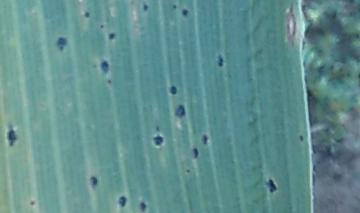tarspot: (265, 175, 277, 194), (8, 125, 16, 147), (174, 104, 186, 118), (56, 37, 67, 52), (152, 134, 163, 147), (101, 60, 110, 75), (89, 173, 97, 188), (217, 54, 225, 68), (119, 195, 127, 207), (192, 146, 200, 158), (107, 31, 116, 41), (142, 2, 150, 13), (170, 84, 178, 95), (139, 201, 146, 213), (202, 133, 209, 145), (83, 9, 91, 19), (181, 8, 189, 17), (90, 61, 98, 69), (171, 1, 178, 10), (298, 133, 305, 142), (98, 21, 105, 29), (106, 77, 113, 85), (184, 167, 192, 174), (155, 125, 161, 133), (30, 199, 36, 206)
